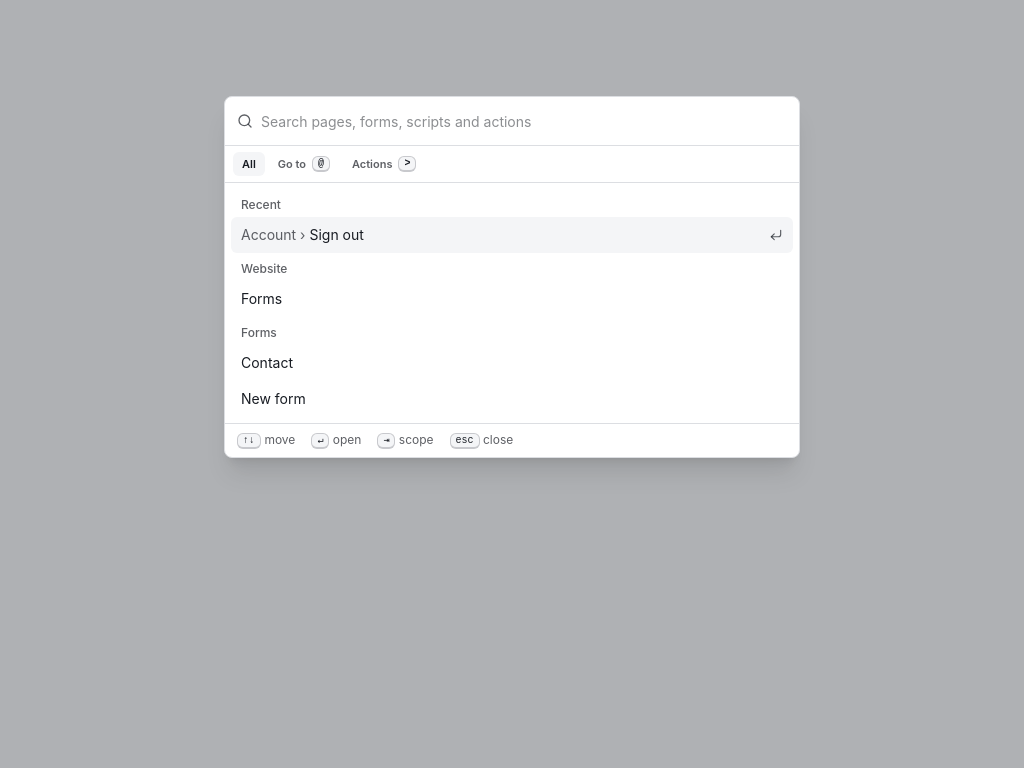
Test: CommandPalette › shows recents first on the empty All view only
The image size is (1024, 768).
Step 1. Type "@" into the dropdown with placeholder "Search pages, forms, scripts and actions" → (524, 121), box left=261, top=97, right=787, bottom=145
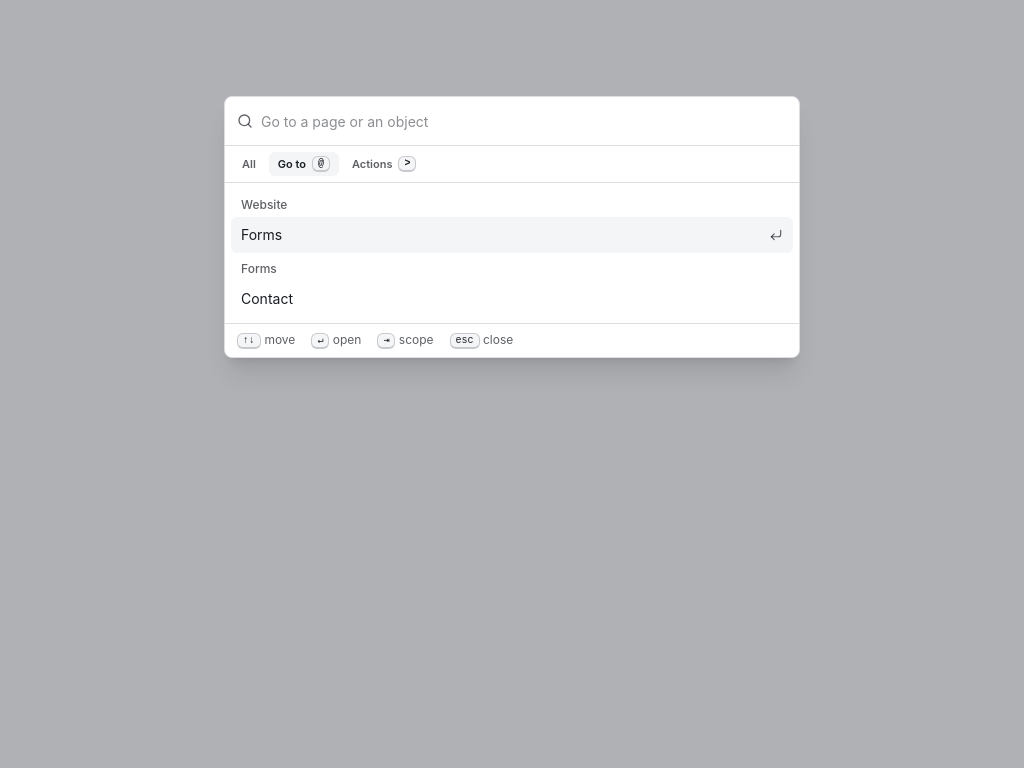
Check: the text "Recent" is gone
